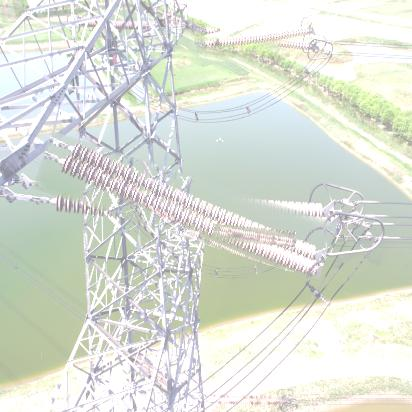insulator: (34, 154, 337, 260), (197, 16, 316, 61), (214, 227, 298, 247)
